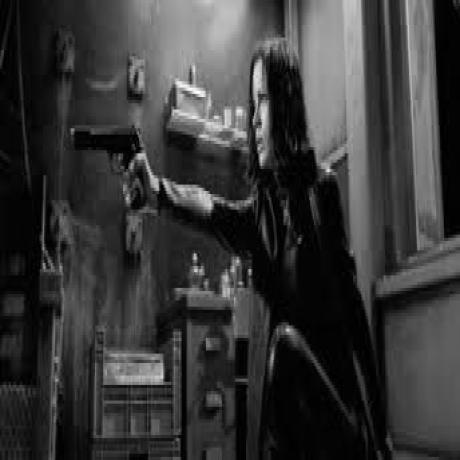Guns: (70, 120, 156, 208)
